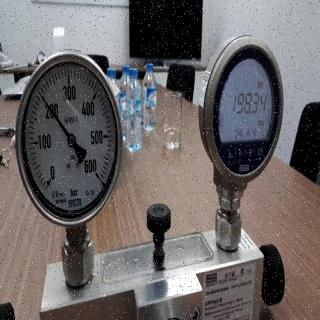gauge: (15, 49, 123, 233), (83, 160, 107, 186), (41, 171, 60, 195), (67, 134, 75, 146), (40, 94, 46, 101)
